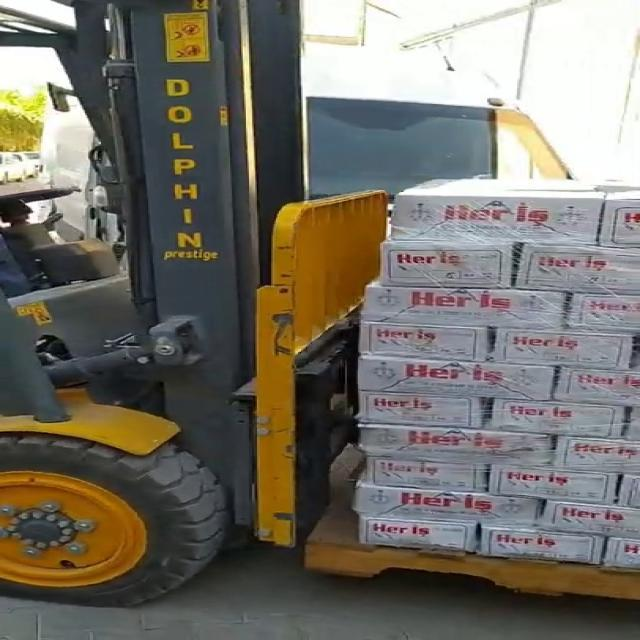forklift: (0, 4, 399, 601)
